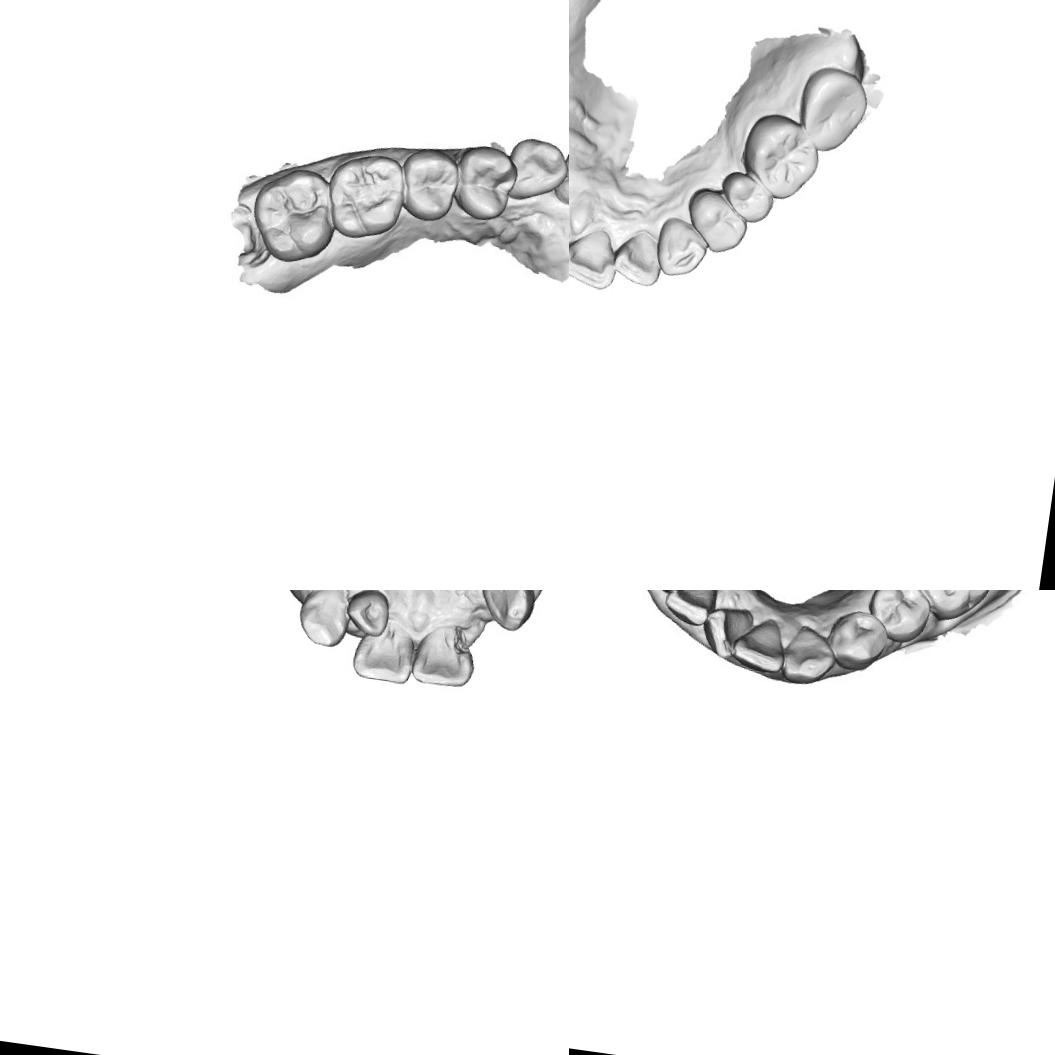canine: (505, 135, 569, 208), (778, 619, 839, 687), (652, 213, 712, 282), (293, 590, 354, 651), (473, 590, 538, 634)
incisor: (408, 618, 478, 690), (350, 619, 420, 686), (610, 225, 667, 290), (569, 221, 621, 292), (733, 617, 793, 676), (701, 600, 753, 663), (341, 590, 393, 639), (666, 590, 720, 631)
molar: (244, 161, 343, 268), (737, 108, 826, 204), (323, 149, 411, 246), (792, 62, 872, 158), (912, 590, 1004, 617)
premolar: (454, 143, 518, 227), (682, 183, 754, 257), (824, 606, 896, 675), (398, 146, 462, 222), (717, 168, 778, 227), (876, 590, 937, 641)
